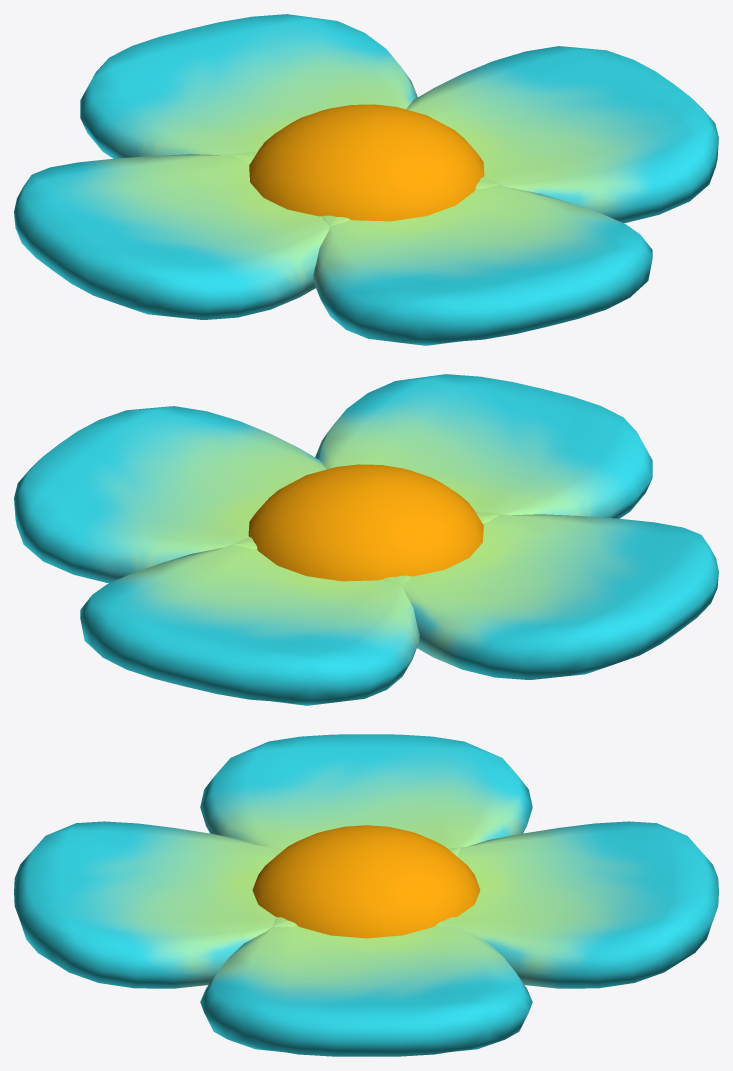
The model's file is hoa8.fbx.
3 views of the same model, one above another, from view 1: azimuth 30°, elevation 25°; view 2: azimuth 150°, elevation 25°; view 3: azimuth 270°, elevation 25° (orthographic). The views are drawn at different scales.
Visible parts, largest first — view 1: polySurface58, polySurface71, polySurface61, polySurface72, polySurface59; view 2: polySurface58, polySurface72, polySurface61, polySurface71, polySurface59; view 3: polySurface61, polySurface72, polySurface71, polySurface58, polySurface59.
Part boxes in pixels (box(x1,y1,x2,y2)): polySurface58: box(14, 151, 349, 319); polySurface71: box(313, 177, 652, 345); polySurface61: box(406, 46, 718, 223); polySurface72: box(80, 14, 417, 163); polySurface59: box(249, 104, 484, 221); polySurface58: box(383, 511, 718, 679); polySurface72: box(80, 537, 419, 705); polySurface61: box(14, 406, 326, 583); polySurface71: box(315, 374, 652, 523); polySurface59: box(248, 464, 483, 581); polySurface61: box(200, 917, 532, 1056); polySurface72: box(436, 821, 718, 988); polySurface71: box(14, 821, 296, 988); polySurface58: box(200, 734, 532, 856); polySurface59: box(252, 825, 480, 938).
Size of the model in its own units: 83.97 by 18.46 by 83.97.
Materials: 1 (1 with a texture image).
